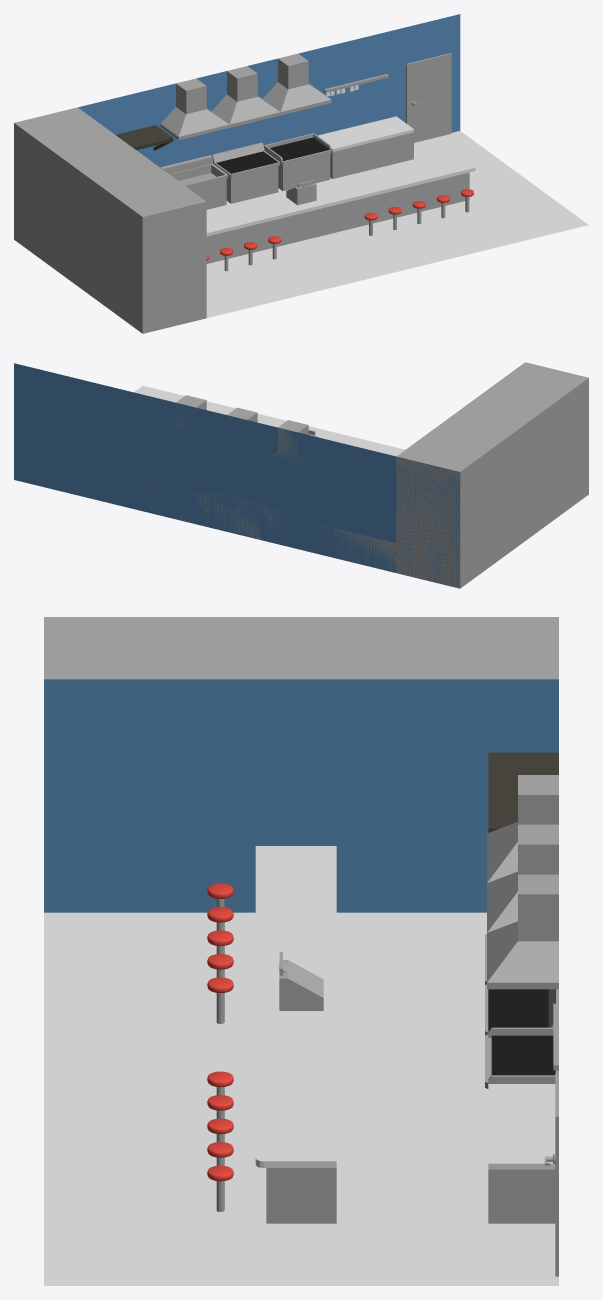
Rendered from diner.fbx.
3 renders of one model, top to bottom at view 1: azimuth 30°, elevation 25°; view 2: azimuth 150°, elevation 25°; view 3: azimuth 270°, elevation 25°, orthographic. The views are drawn at different scales.
Visible parts, largest first — view 1: Plane.000, Plane.001, Cylinder; view 2: Plane.000; view 3: Plane.000, Cylinder, Plane.001.
Boxes of the visible parts, x1,y1,x2,y2 form: Plane.000: (14, 14, 588, 333); Plane.001: (406, 53, 451, 142); Cylinder: (206, 180, 473, 271); Plane.000: (14, 362, 588, 588); Plane.000: (44, 617, 558, 1285); Cylinder: (207, 883, 323, 1211); Plane.001: (544, 1073, 558, 1276).
Bounding box in the file's own units: 1400 × 350 × 700.
